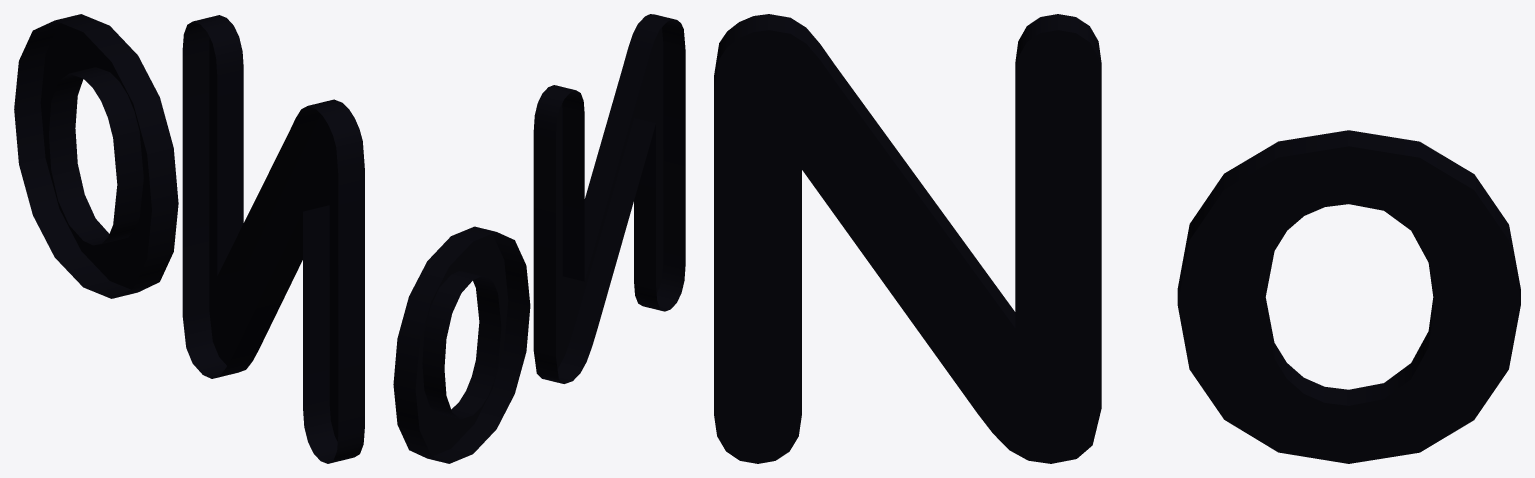
3 renders of one model, left to right at view 1: azimuth 30°, elevation 25°; view 2: azimuth 150°, elevation 25°; view 3: azimuth 270°, elevation 25°, orthographic. The views are drawn at different scales.
Parts seen in each view (by area): view 1: Text_No; view 2: Text_No; view 3: Text_No.
Part boxes in pixels (x1=…): Text_No: x1=14, y1=14, x2=364, y2=463; Text_No: x1=393, y1=14, x2=685, y2=463; Text_No: x1=714, y1=14, x2=1520, y2=463.
Bounding box in the file's own units: 0.2 × 2.51 × 4.23.
1 material, 1 textured.
